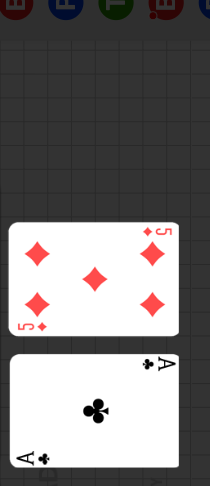5D: (141, 226, 174, 238)
AC: (15, 449, 53, 466)
